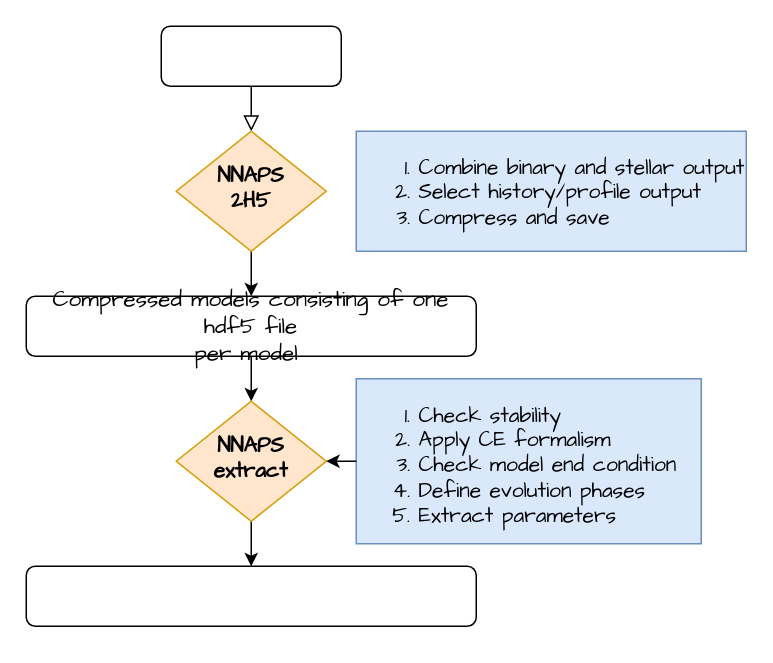
The diagram is 773 pixels wide and 663 high, and some of its shapes have lost their labels. Here are the shapes that lost their labels. From the top down, the centre of each, then its label:
At [250,55]: "MESA model grid".
At [250,595]: "2D table containing all requested parameters, one row per model".
